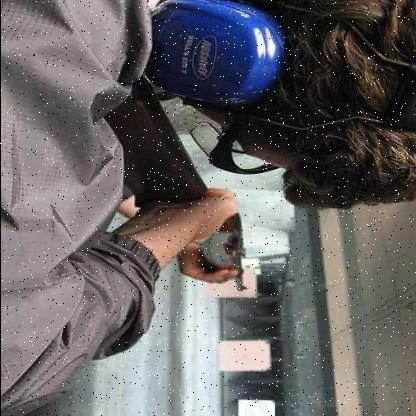rifle: (65, 73, 263, 296)
